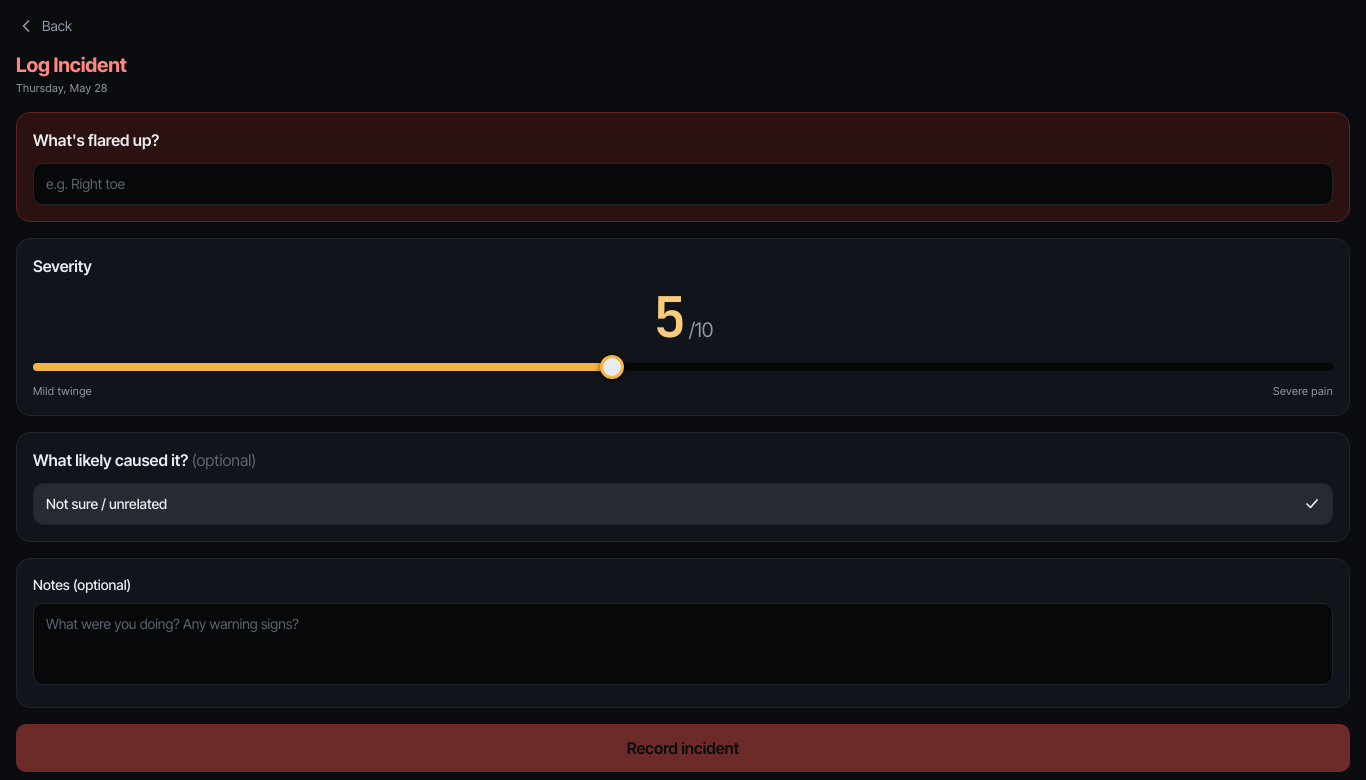
Test: LogIncidentScreen — post-incident confirmation cleanup › shows "Incident recorded." headline after submit
Type "Left heel" into the field with placeholder "e.g. Right toe" at (683, 184), box [33,163,1333,205]
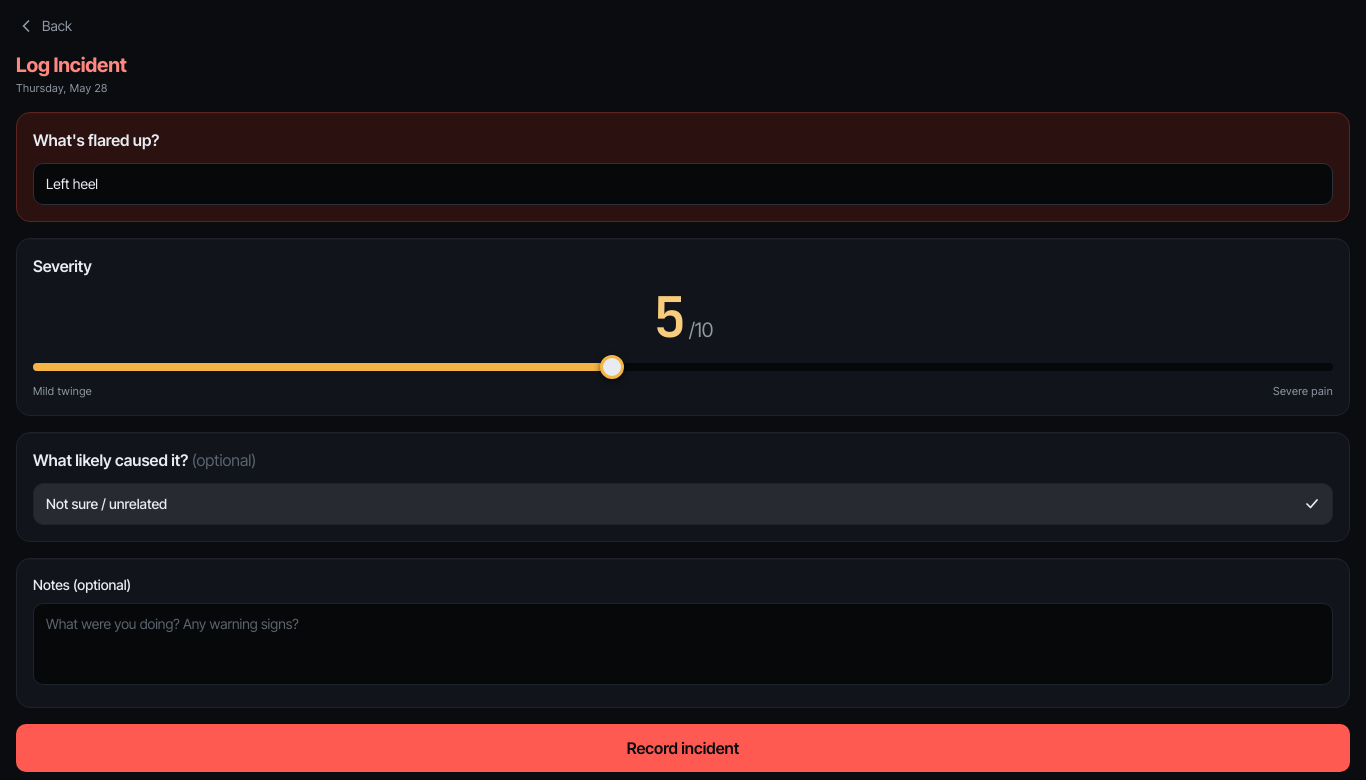
Click the button "Record incident" at (683, 748), box [16,724,1350,772]
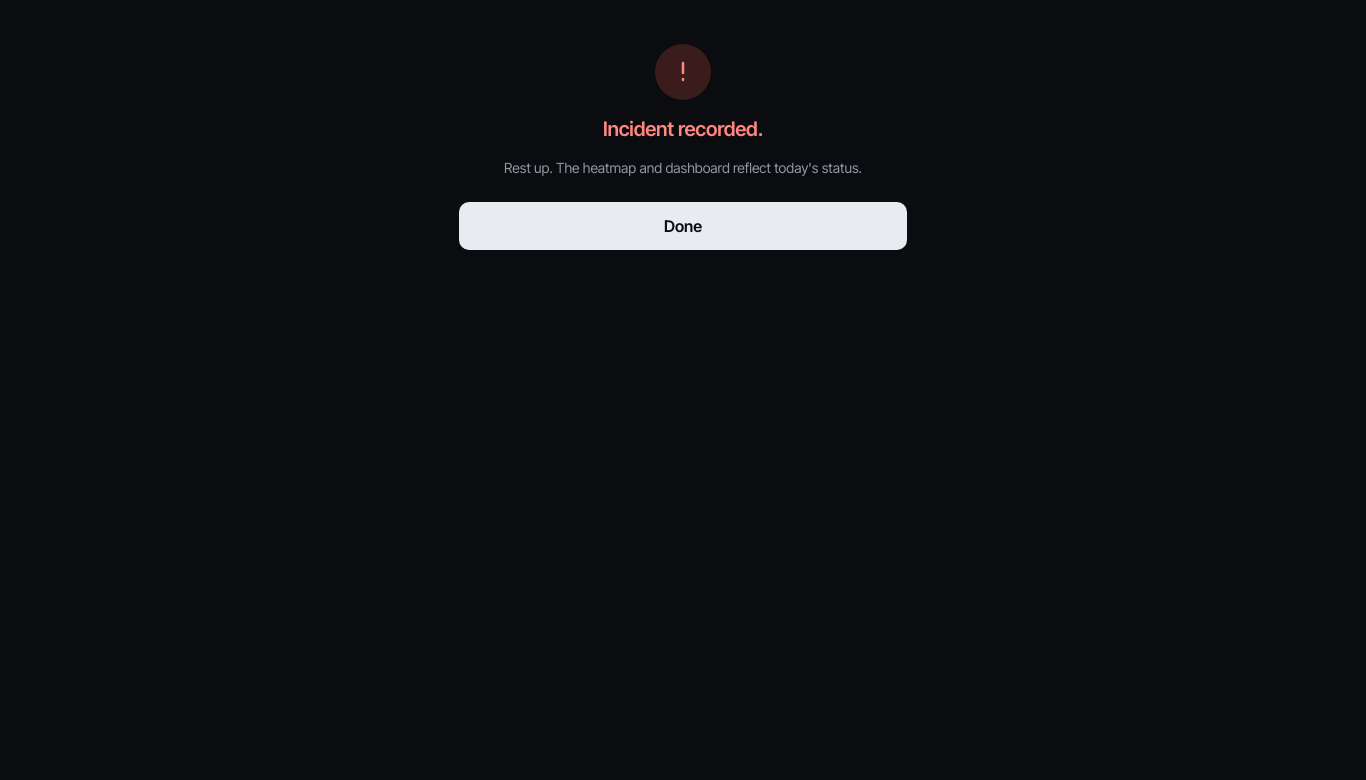
Now the text "Incident recorded." is shown, box [603,116,763,142]
